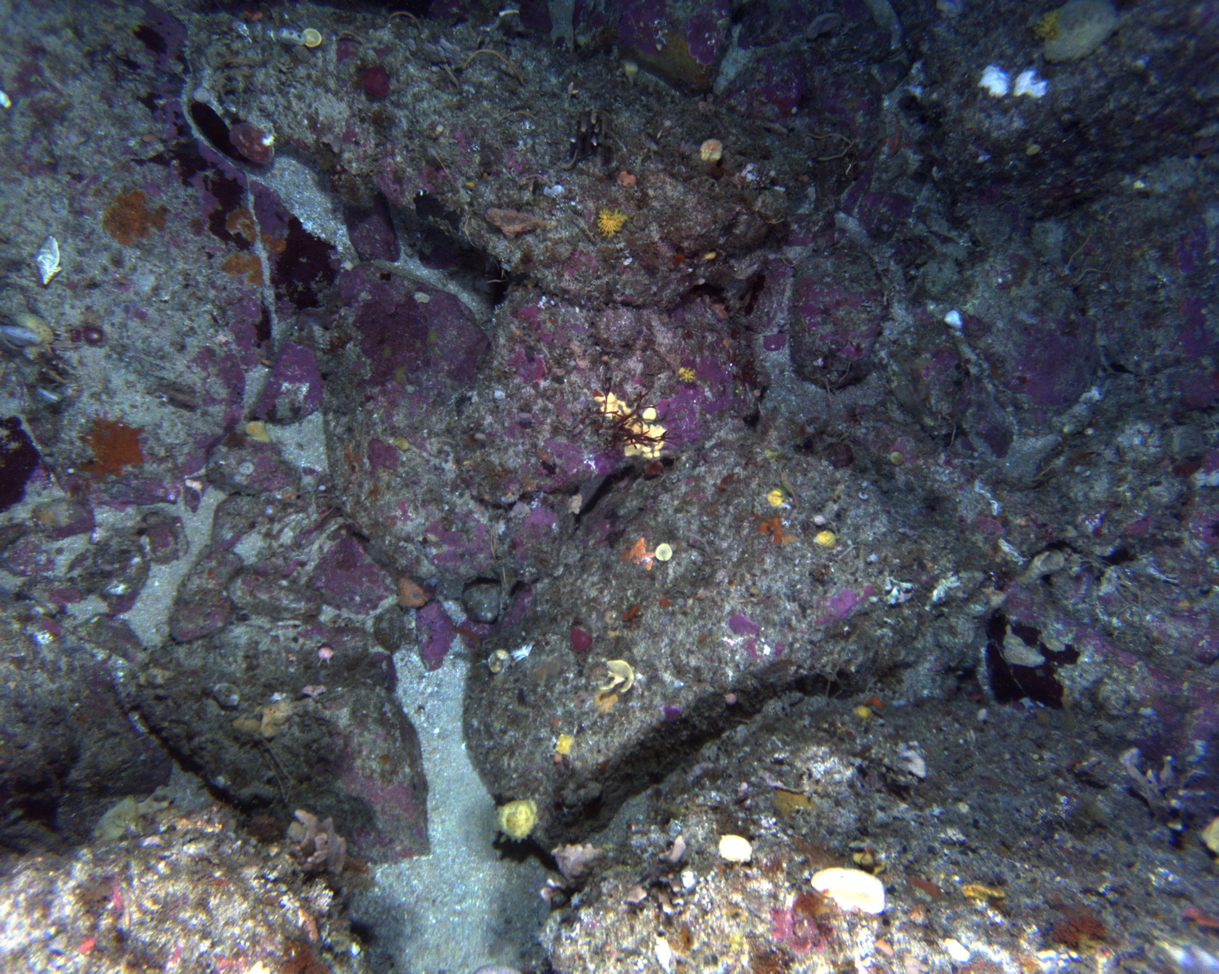Brachionichthyidae: (878, 110, 911, 159)
